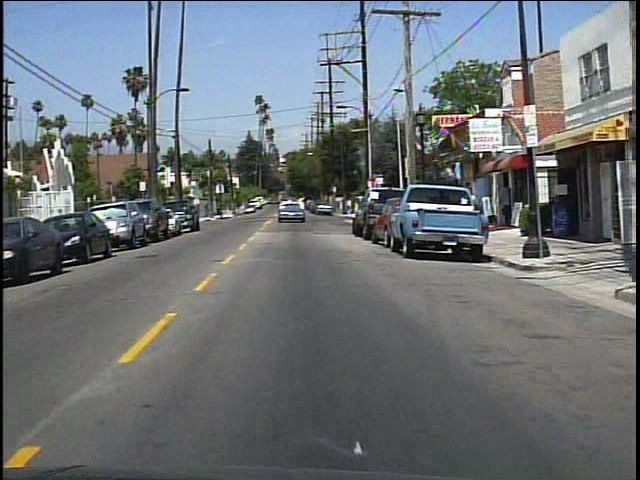person: (459, 185, 481, 233)
